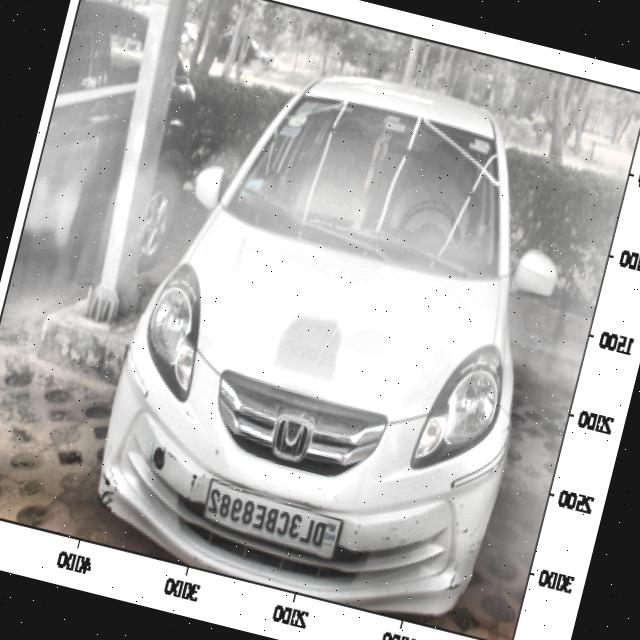license_plate: (198, 483, 337, 552)
